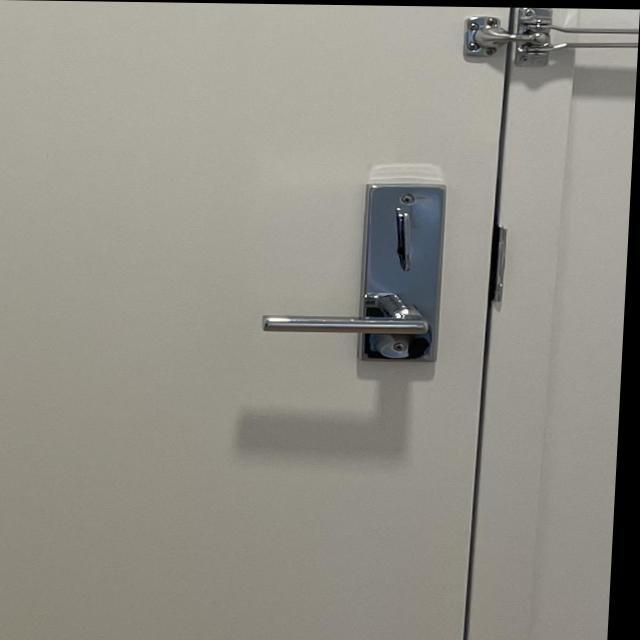door_handle: (249, 286, 449, 366)
